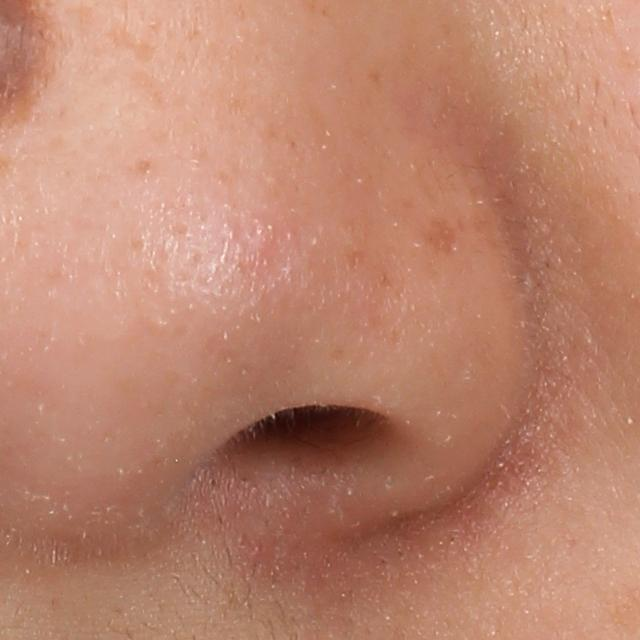melasma: (420, 217, 460, 257)
